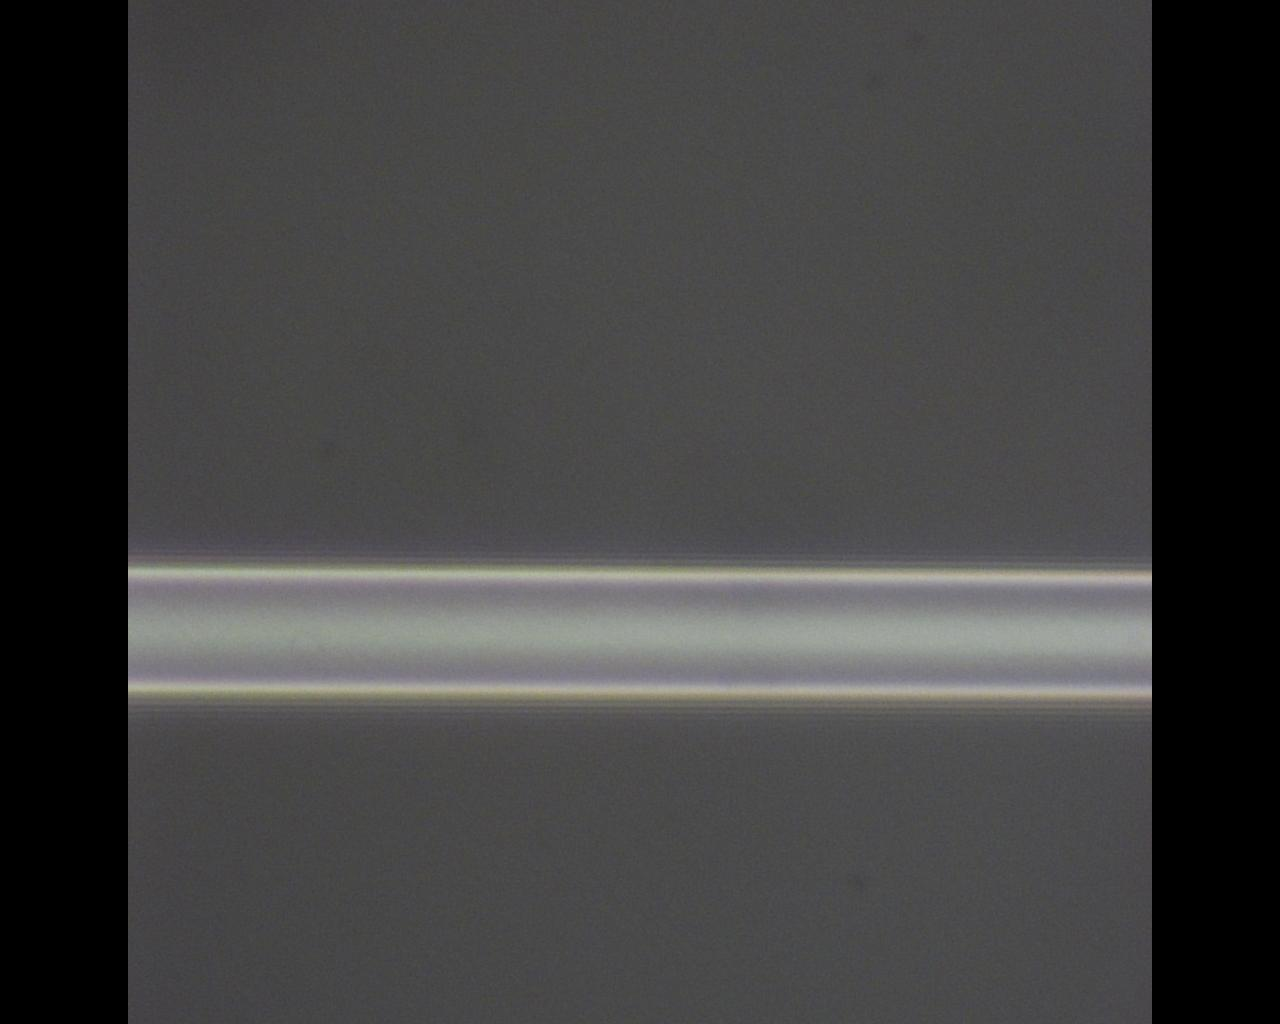fiber: (127, 563, 1151, 706)
